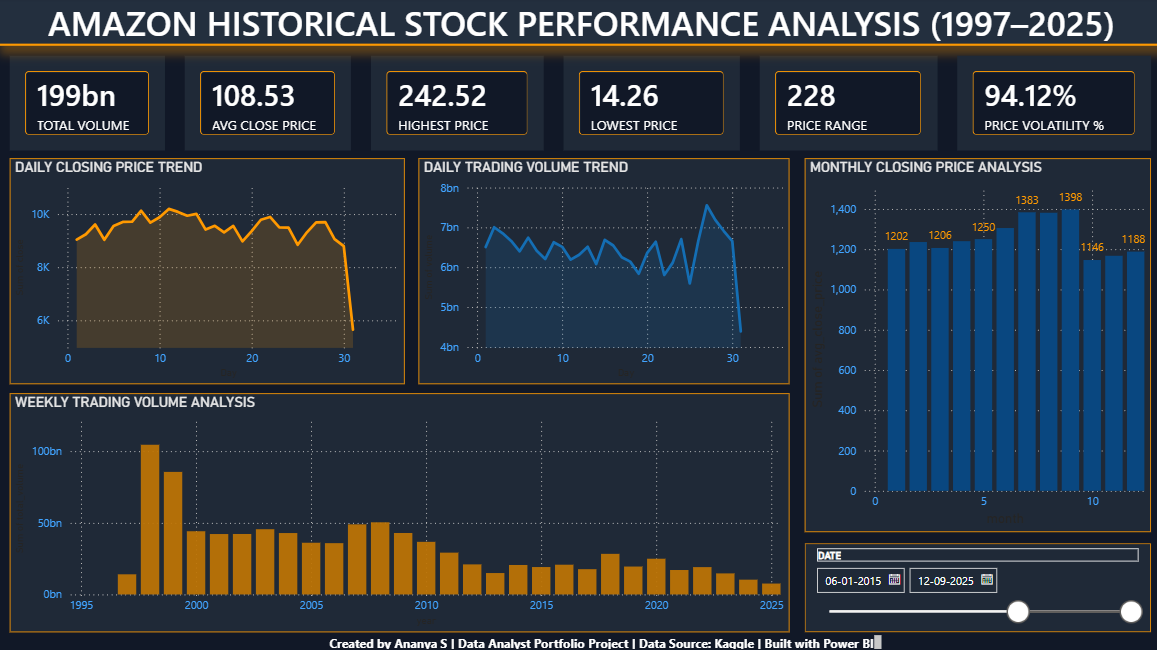

This screenshot's page, from the dashboard's own definition file:
{"tool":"powerbi","page":{"name":"Page 1","canvas":[1280,720],"ordinal":0},"visuals":[{"type":"cardVisual","fields":{"Data":["gold_daily_summary.Total Volume"]},"box":[15.1,64.5,170.2,104.3],"z":0},{"type":"cardVisual","fields":{"Data":["gold_daily_summary.Average Close Price"]},"box":[207.2,64.5,182.5,104.3],"z":1000},{"type":"cardVisual","fields":{"Data":["gold_daily_summary.Highest Price"]},"box":[411.7,64.5,189.4,104.3],"z":2000},{"type":"cardVisual","fields":{"Data":["gold_daily_summary.Lowest Price"]},"box":[623,64.5,193.5,104.3],"z":3000},{"type":"cardVisual","fields":{"Data":["gold_daily_summary.Trading Days"]},"box":[838.4,64.5,194.9,104.3],"z":4000},{"type":"lineChart","title":"DAILY CLOSING PRICE TREND","fields":{"Y":["Sum(gold_daily_summary.close)"],"Category":["gold_daily_summary.date.Variation.Date Hierarchy.Day"]},"box":[15.1,177,433.6,248.4],"z":5000},{"type":"areaChart","title":"DAILY TRADING VOLUME TREND","fields":{"Category":["gold_daily_summary.date.Variation.Date Hierarchy.Day"],"Y":["Sum(gold_daily_summary.volume)"]},"box":[463.8,177,407.5,248.4],"z":6000},{"type":"clusteredColumnChart","title":"MONTHLY CLOSING PRICE ANALYSIS","fields":{"Category":["gold_monthly_summary.month"],"Y":["Sum(gold_monthly_summary.avg_close_price)"]},"box":[887.8,177,380.1,410.3],"z":7000},{"type":"slicer","fields":{"Values":["gold_daily_summary.date"]},"box":[887.8,599.7,380.1,97.4],"z":8000},{"type":"textbox","title":"AMAZON HISTORICAL STOCK PERFORMANCE ANALYSIS (1997–2025)","box":[0,0,1280.3,53.5],"z":9000},{"type":"clusteredColumnChart","title":"WEEKLY TRADING VOLUME ANALYSIS","fields":{"Y":["Sum(gold_weekly_summary.total_volume)"],"Category":["gold_weekly_summary.year"]},"box":[15.1,435,856.3,262.1],"z":10000},{"type":"cardVisual","fields":{"Data":["gold_daily_summary.Price Volatility %"]},"box":[1055.2,64.5,212.7,104.3],"z":11000},{"type":"textbox","box":[360.9,695.7,616.1,24.7],"z":11001}]}

Visuals, with their boxes in screenshot pixels (x1, y1, x2, y2), scaled from the page's 1280x720 canvas onto the 1157x650 screenshot:
cardVisual - gold_daily_summary.Total Volume: {"left": 14, "top": 58, "right": 167, "bottom": 152}
cardVisual - gold_daily_summary.Average Close Price: {"left": 187, "top": 58, "right": 352, "bottom": 152}
cardVisual - gold_daily_summary.Highest Price: {"left": 372, "top": 58, "right": 543, "bottom": 152}
cardVisual - gold_daily_summary.Lowest Price: {"left": 563, "top": 58, "right": 738, "bottom": 152}
cardVisual - gold_daily_summary.Trading Days: {"left": 758, "top": 58, "right": 934, "bottom": 152}
"DAILY CLOSING PRICE TREND" lineChart: {"left": 14, "top": 160, "right": 406, "bottom": 384}
"DAILY TRADING VOLUME TREND" areaChart: {"left": 419, "top": 160, "right": 788, "bottom": 384}
"MONTHLY CLOSING PRICE ANALYSIS" clusteredColumnChart: {"left": 802, "top": 160, "right": 1146, "bottom": 530}
slicer - gold_daily_summary.date: {"left": 802, "top": 541, "right": 1146, "bottom": 629}
"AMAZON HISTORICAL STOCK PERFORMANCE ANALYSIS (1997–2025)" textbox: {"left": 0, "top": 0, "right": 1156, "bottom": 48}
"WEEKLY TRADING VOLUME ANALYSIS" clusteredColumnChart: {"left": 14, "top": 393, "right": 788, "bottom": 629}
cardVisual - gold_daily_summary.Price Volatility %: {"left": 954, "top": 58, "right": 1146, "bottom": 152}
textbox: {"left": 326, "top": 628, "right": 883, "bottom": 649}
